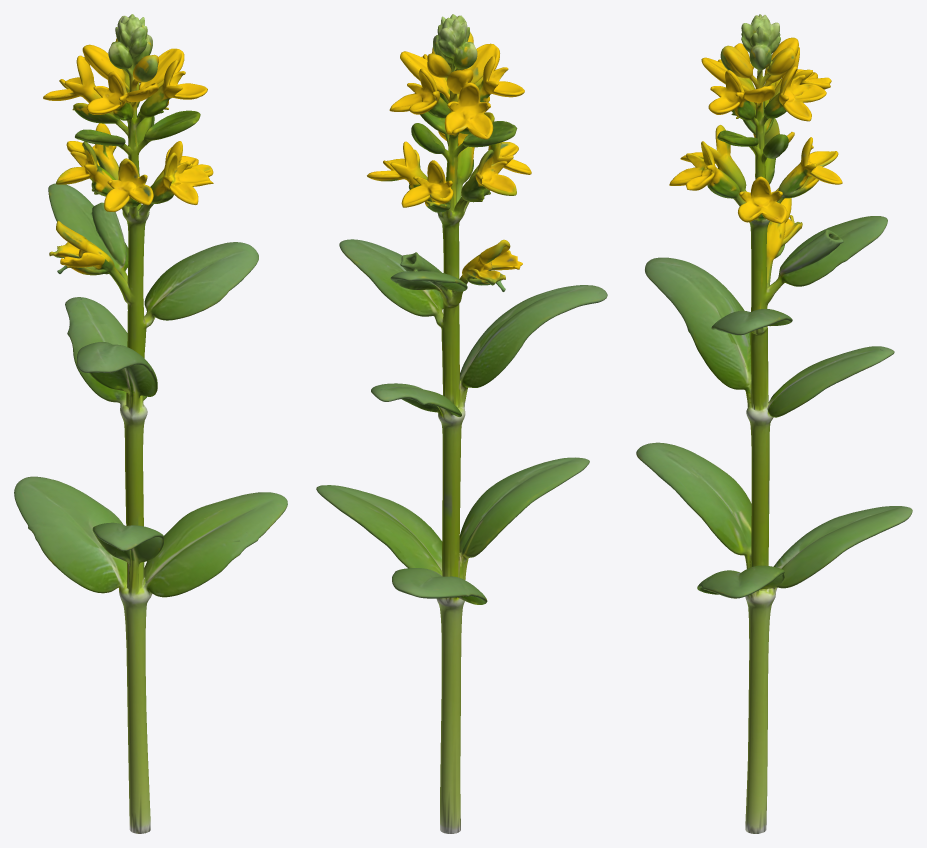
File: linglingxiang.glb
3 views of the same model, side by side, from view 1: azimuth 30°, elevation 25°; view 2: azimuth 150°, elevation 25°; view 3: azimuth 270°, elevation 25° (orthographic).
Parts seen in each view (by area): view 1: node_0; view 2: node_0; view 3: node_0.
Boxes of the visible parts, left/top/right/bottom form: node_0: left=14, top=14, right=287, bottom=833; node_0: left=316, top=14, right=607, bottom=833; node_0: left=636, top=14, right=912, bottom=833.
Size of the model in its own units: 0.3776 by 1.19 by 0.3689.
1 material, 1 textured.
